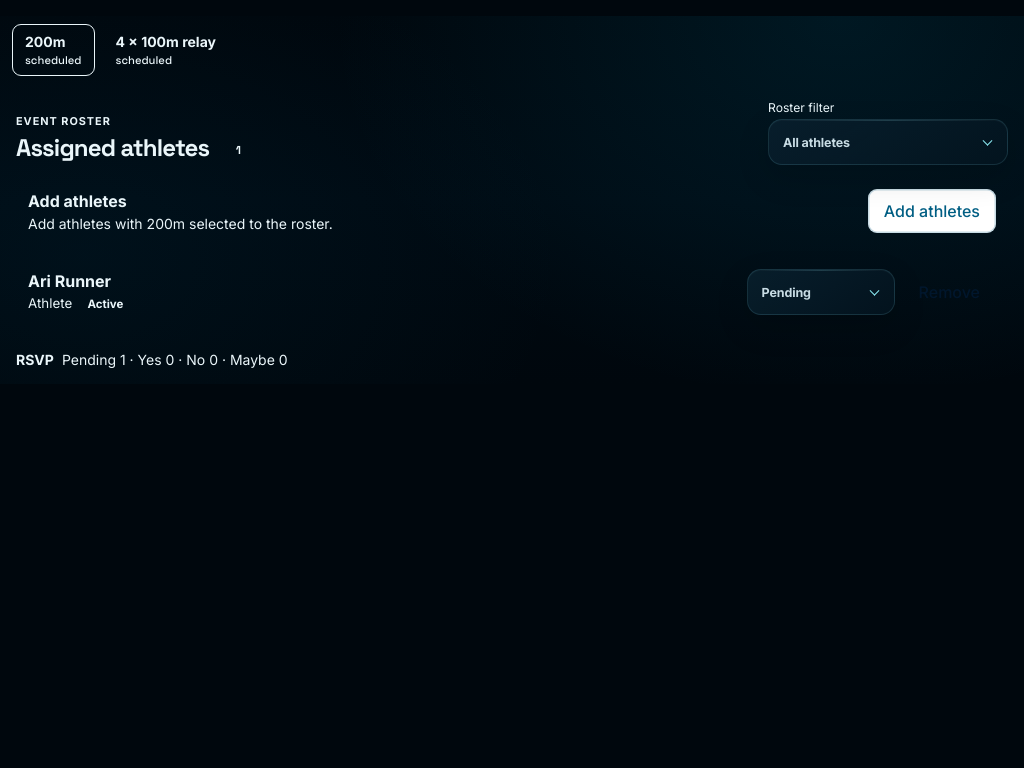
Test: MeetRosterPanel › shows relay creation only for a selected relay session and never exposes guest entry
Expected: the panel is shown, [0,84,1023,384]
Expected: the button "Add relay" is not shown
Click the tab "4 x 100m relay scheduled" at x=166, y=50, box [102,24,229,76]
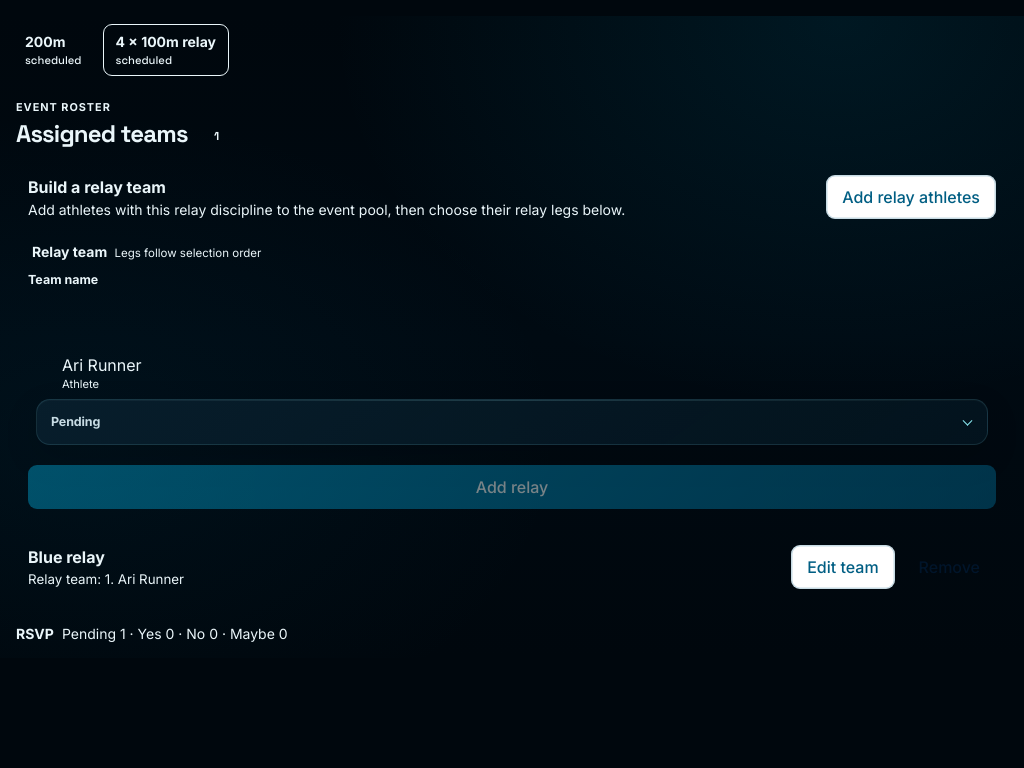
Now the element "Relay team" is shown, box [16,243,1008,521]
Now the button "Add relay athletes" is shown, box [826,175,996,219]
Now the button "Add relay" is shown, box [28,465,996,509]
